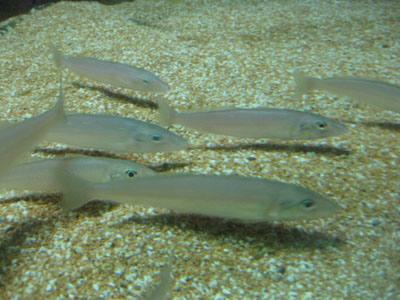kiss: (60, 166, 340, 227), (156, 94, 349, 146), (27, 110, 192, 154), (50, 41, 174, 96)
